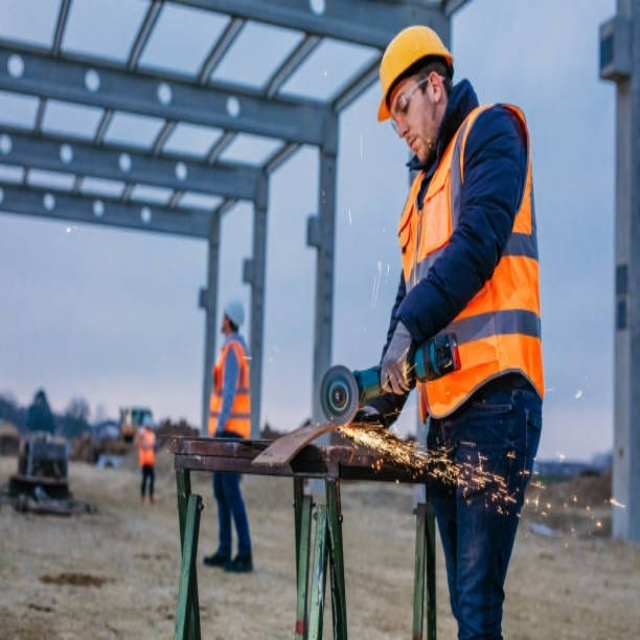Gafas: (390, 75, 435, 131)
Guantes: (380, 325, 418, 396)
Sin_mascara: (402, 133, 427, 162)
